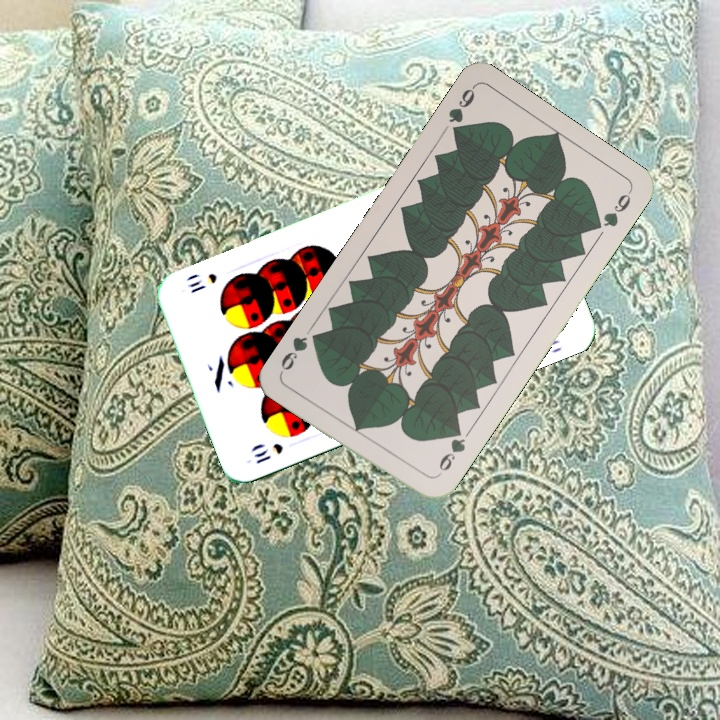G9: (431, 423, 468, 480), (444, 82, 478, 141)
S10: (250, 439, 286, 466)
